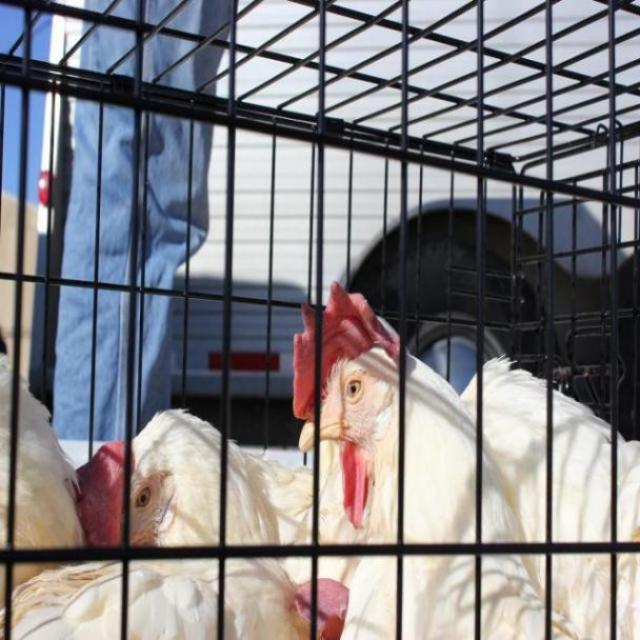Chicken: (0, 282, 640, 640), (288, 277, 576, 639), (74, 399, 321, 584), (0, 558, 356, 639)
